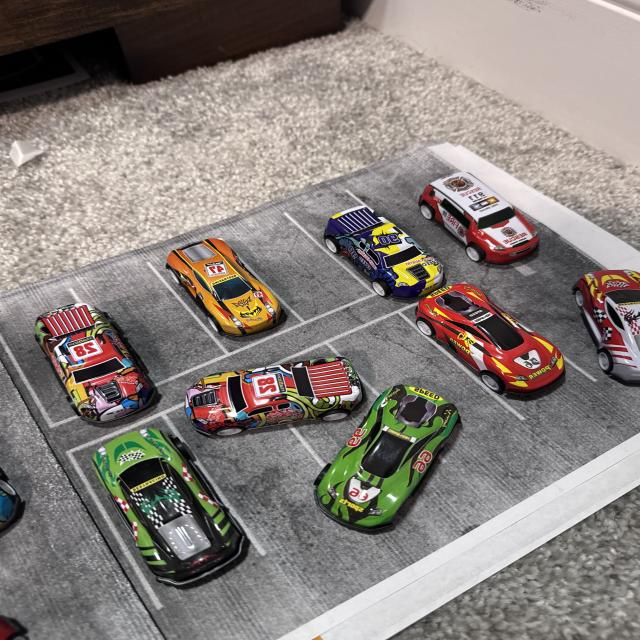car: (226, 390, 454, 593), (396, 250, 582, 420), (52, 426, 260, 576), (94, 238, 314, 356), (165, 338, 374, 438), (408, 148, 566, 275), (40, 292, 184, 426), (278, 188, 430, 300), (565, 257, 640, 388)
